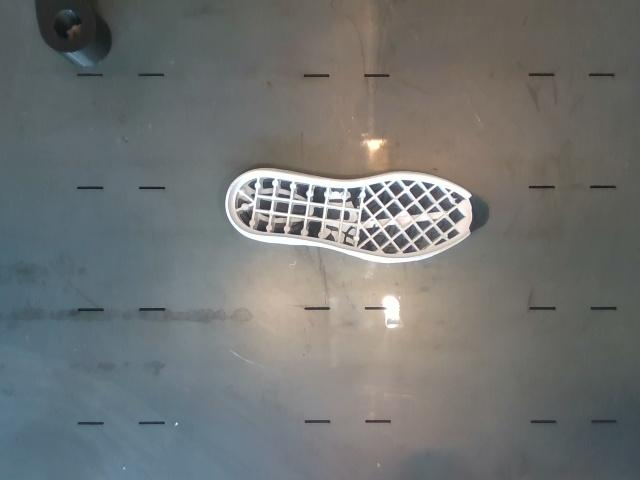shoes: (228, 171, 489, 258)
